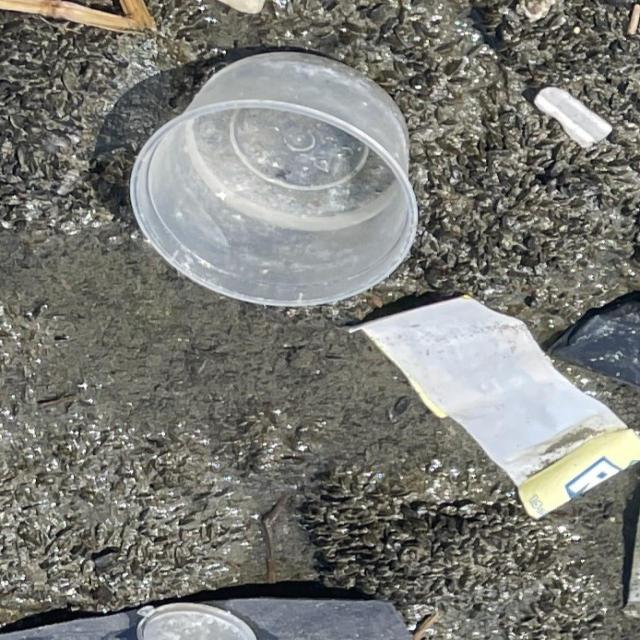plastic_waste: (131, 48, 421, 309), (351, 297, 638, 521)
